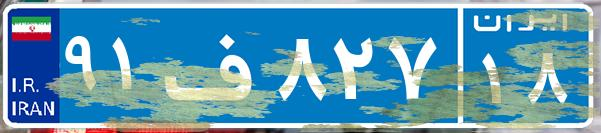1: (475, 38, 525, 113), (110, 28, 158, 105)
2: (330, 28, 385, 110)
7: (385, 28, 445, 110)
8: (273, 28, 330, 110), (525, 38, 570, 115)
9: (57, 26, 110, 107)
ف: (158, 15, 273, 115)
